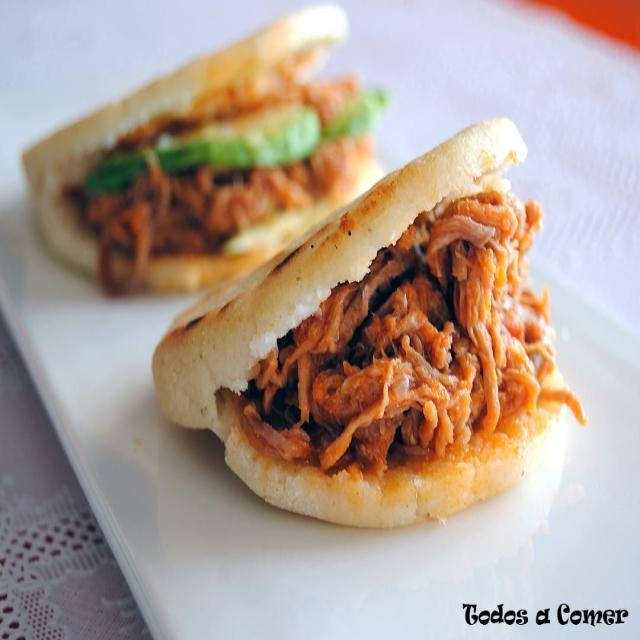carne de res: (321, 272, 556, 435)
